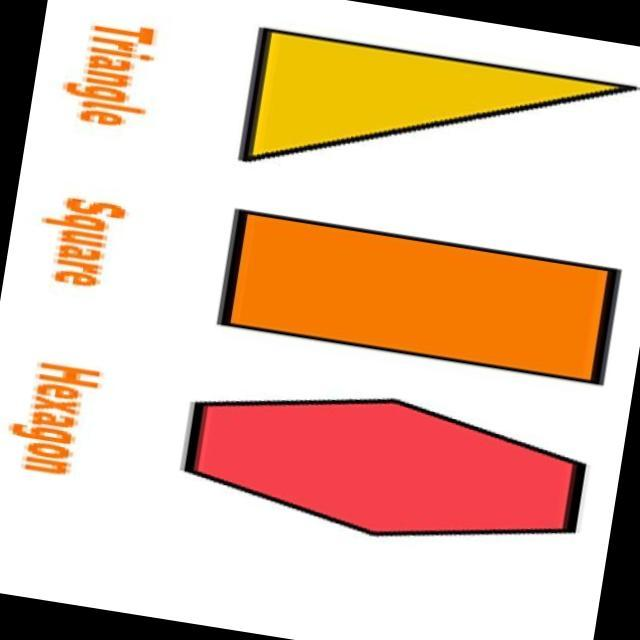square: (203, 190, 634, 398)
triangle: (231, 10, 640, 166)
